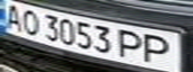0: (54, 16, 75, 47)
3: (90, 22, 118, 56), (36, 12, 63, 43)
5: (72, 19, 93, 52)
A: (0, 1, 27, 30)
O: (18, 7, 42, 37)
P: (139, 32, 181, 65), (115, 27, 148, 61)
